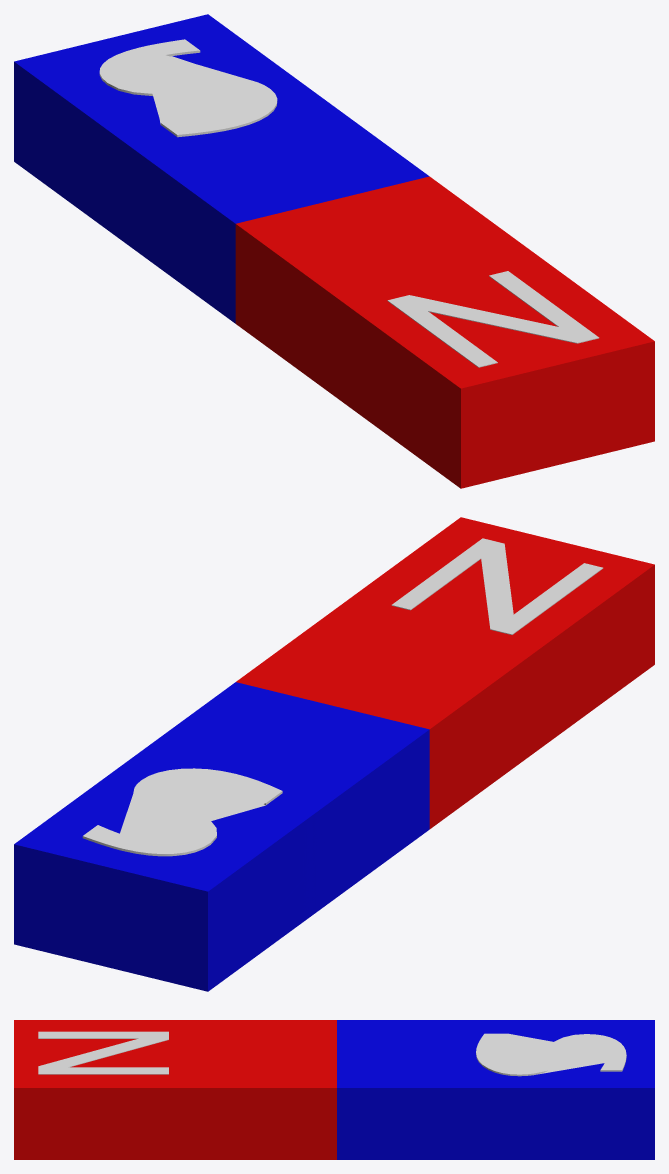
File: bar magnet.fbx
3 renders of one model, top to bottom at view 1: azimuth 30°, elevation 25°; view 2: azimuth 150°, elevation 25°; view 3: azimuth 270°, elevation 25°, orthographic. The views are drawn at different scales.
Parts seen in each view (by area): view 1: bar_magnet_10; view 2: bar_magnet_10; view 3: bar_magnet_10.
Part boxes in pixels (box(x1,y1,x2,y2)): bar_magnet_10: box(14, 14, 654, 488); bar_magnet_10: box(14, 517, 654, 991); bar_magnet_10: box(14, 1020, 654, 1159).
Bounding box in the file's own units: 2.08 × 1.05 × 8.29.
